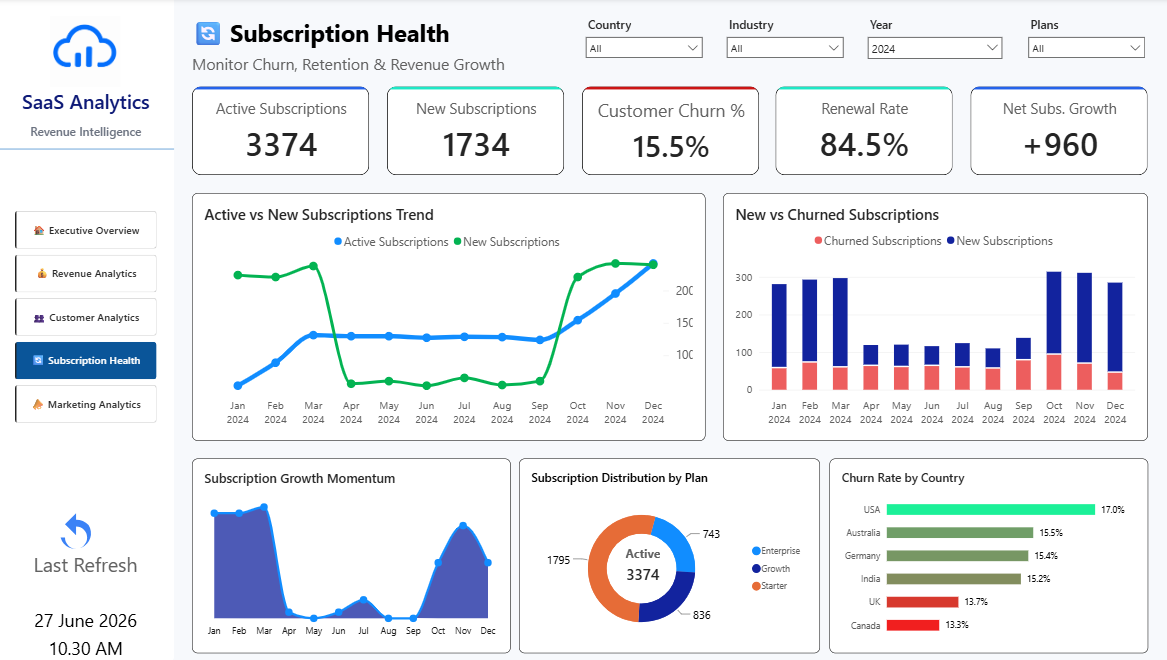

What the dashboard file says about the page in this screenshot:
{"tool":"powerbi","page":{"name":"🔄 Subscription Health","canvas":[1600,900],"ordinal":3},"visuals":[{"type":"cardVisual","fields":{"Data":["_Measures_Subsciption.Active Subscriptions"]},"box":[264,120,240,120],"z":0},{"type":"cardVisual","fields":{"Data":["_Measures_Subsciption.New Subscriptions"]},"box":[528,120,240,120],"z":1000},{"type":"cardVisual","fields":{"Data":["_Measures_Customers.Customer Churn %"]},"box":[792,120,240,120],"z":2000},{"type":"cardVisual","fields":{"Data":["_Measures_Subsciption.Renewal Rate"]},"box":[1056,120,240,120],"z":3000},{"type":"textbox","box":[264,24,504,120],"z":4000},{"type":"shape","box":[0,-12,240,912],"z":5000},{"type":"textbox","box":[24,120,192,96],"z":6000},{"type":"shape","box":[0,168,240,72],"z":7000},{"type":"image","box":[72,24,96,96],"z":8000},{"type":"pageNavigator","box":[24,288,192,290],"z":9000},{"type":"slicer","fields":{"Values":["customers.country"]},"box":[792,24,168,72],"z":10000},{"type":"slicer","fields":{"Values":["customers.industry"]},"box":[984,24,168,72],"z":11000},{"type":"slicer","fields":{"Values":["Dim_Date.Year"]},"box":[1176,24,192,72],"z":12000},{"type":"slicer","fields":{"Values":["subscriptions.plan_type"]},"box":[1392,24,168,72],"z":13000},{"type":"cardVisual","fields":{"Data":["_Measures_Subsciption.Net Subscription Growth (Display)"]},"box":[1320,120,240,120],"z":14000},{"type":"areaChart","title":"Subscription Growth Momentum","fields":{"Category":["Dim_Date.Month Name"],"Y":["_Measures_Subsciption.Net Subscription Growth"]},"box":[264,624,432,264],"z":15000},{"type":"clusteredBarChart","title":"Churn Rate by Country","fields":{"Category":["customers.country"],"Y":["_Measures_Customers.Customer Churn %"]},"box":[1128,624,432,264],"z":16000},{"type":"textbox","box":[0,636,240,264],"z":17000},{"type":"image","box":[72,696,72,72],"z":18000},{"type":"lineChart","title":"Active vs New Subscriptions Trend","fields":{"Y":["_Measures_Subsciption.Active Subscriptions"],"Category":["Dim_Date.Month Year"],"Y2":["_Measures_Subsciption.New Subscriptions"]},"box":[264,264,696,336],"z":19000},{"type":"donutChart","title":"Subscription Distribution by Plan","fields":{"Category":["subscriptions.plan_type"],"Y":["_Measures_Subsciption.Active Subscriptions"]},"box":[708,624,408,264],"z":20000},{"type":"columnChart","title":"New vs Churned Subscriptions ","fields":{"Y":["_Measures_Subsciption.Churned Subscriptions","_Measures_Subsciption.New Subscriptions"],"Category":["Dim_Date.Month Year"]},"box":[984,264,576,336],"z":21000},{"type":"cardVisual","fields":{"Data":["_Measures_Subsciption.Active Subscriptions"]},"box":[816,720,120,96],"z":22000}]}

Visuals, with their boxes on the page's 1600x900 design canvas (x1, y1, x2, y2). These are canvas units, not pixel positions in the 1167x660 screenshot, which may show the page scaled, cropped or inside an application window:
cardVisual - _Measures_Subsciption.Active Subscriptions: BBox(264, 120, 504, 240)
cardVisual - _Measures_Subsciption.New Subscriptions: BBox(528, 120, 768, 240)
cardVisual - _Measures_Customers.Customer Churn %: BBox(792, 120, 1032, 240)
cardVisual - _Measures_Subsciption.Renewal Rate: BBox(1056, 120, 1296, 240)
textbox: BBox(264, 24, 768, 144)
shape: BBox(0, -12, 240, 900)
textbox: BBox(24, 120, 216, 216)
shape: BBox(0, 168, 240, 240)
image: BBox(72, 24, 168, 120)
pageNavigator: BBox(24, 288, 216, 578)
slicer - customers.country: BBox(792, 24, 960, 96)
slicer - customers.industry: BBox(984, 24, 1152, 96)
slicer - Dim_Date.Year: BBox(1176, 24, 1368, 96)
slicer - subscriptions.plan_type: BBox(1392, 24, 1560, 96)
cardVisual - _Measures_Subsciption.Net Subscription Growth (Display): BBox(1320, 120, 1560, 240)
"Subscription Growth Momentum" areaChart: BBox(264, 624, 696, 888)
"Churn Rate by Country" clusteredBarChart: BBox(1128, 624, 1560, 888)
textbox: BBox(0, 636, 240, 900)
image: BBox(72, 696, 144, 768)
"Active vs New Subscriptions Trend" lineChart: BBox(264, 264, 960, 600)
"Subscription Distribution by Plan" donutChart: BBox(708, 624, 1116, 888)
"New vs Churned Subscriptions " columnChart: BBox(984, 264, 1560, 600)
cardVisual - _Measures_Subsciption.Active Subscriptions: BBox(816, 720, 936, 816)
